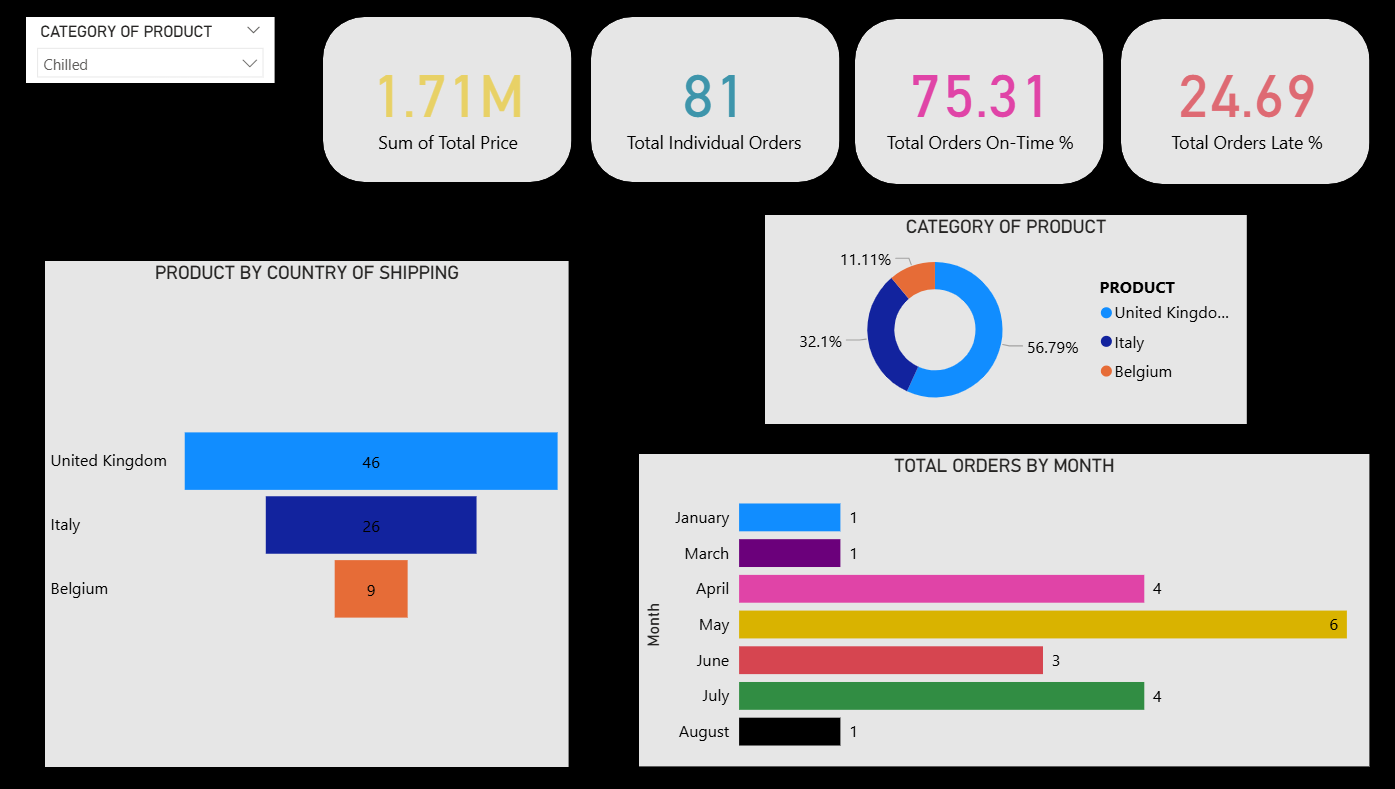

What the dashboard file says about the page in this screenshot:
{"tool":"powerbi","page":{"name":"CHILLED ITEMS","canvas":[1280,720],"ordinal":2},"visuals":[{"type":"shape","box":[1022,18,226,150],"z":0},{"type":"shape","box":[780,18,226,150],"z":1000},{"type":"shape","box":[540,16,226,150],"z":2000},{"type":"shape","box":[296,16,226,150],"z":3000},{"type":"slicer","fields":{"Values":["unique_category_of_product sheet.CATEGORY OF PRODUCT"]},"box":[16.7,33.3,247.8,60],"z":4000},{"type":"donutChart","title":"CATEGORY OF PRODUCT","fields":{"Y":["CountNonNull(deliveryScheduleCSV.PRODUCT)"],"Category":["deliveryScheduleCSV.COUNTRY OF SHIPPING"]},"box":[742.2,193.3,437.8,190],"z":5000},{"type":"barChart","title":"TOTAL ORDERS BY MONTH","fields":{"Y":["MeasureTable.Total Orders Late"],"Category":["deliveryScheduleCSV.DATE OF ORDER (D/M/Y).Variation.Date Hierarchy.Month"]},"box":[584,414,664,284],"z":6000},{"type":"card","fields":{"Values":["Sum(deliveryScheduleCSV.Total Price)"]},"box":[320,32,180,120],"z":7000},{"type":"funnel","title":"PRODUCT BY COUNTRY OF SHIPPING","fields":{"Y":["CountNonNull(deliveryScheduleCSV.PRODUCT)"],"Category":["unique_country_of_shipping sheet.COUNTRY OF SHIPPING"]},"box":[48.9,406.7,493.3,292.2],"z":8000},{"type":"card","fields":{"Values":["MeasureTable.Total Orders On-Time %"]},"box":[804,32,180,120],"z":9000},{"type":"card","fields":{"Values":["MeasureTable.Total Orders Late %"]},"box":[1046,32,180,120],"z":10000},{"type":"card","fields":{"Values":["MeasureTable.Total Individual Orders"]},"box":[562,32,180,120],"z":11000},{"type":"lineChart","title":"Total Price by Month","fields":{"Category":["deliveryScheduleCSV.ETA - WAREHOUSE DELIVERY.Variation.Date Hierarchy.Month"],"Y":["Sum(deliveryScheduleCSV.Total Price)"]},"box":[48.9,182.2,623.3,201.1],"z":11001}]}

Visuals, with their boxes in screenshot pixels (x1, y1, x2, y2), scaled from the page's 1280x720 canvas onto the 1395x789 screenshot:
shape: box=[1114, 20, 1360, 184]
shape: box=[850, 20, 1096, 184]
shape: box=[589, 18, 835, 182]
shape: box=[323, 18, 569, 182]
slicer - unique_category_of_product sheet.CATEGORY OF PRODUCT: box=[18, 36, 288, 102]
"CATEGORY OF PRODUCT" donutChart: box=[809, 212, 1286, 420]
"TOTAL ORDERS BY MONTH" barChart: box=[636, 454, 1360, 765]
card - Sum(deliveryScheduleCSV.Total Price): box=[349, 35, 545, 167]
"PRODUCT BY COUNTRY OF SHIPPING" funnel: box=[53, 446, 591, 766]
card - MeasureTable.Total Orders On-Time %: box=[876, 35, 1072, 167]
card - MeasureTable.Total Orders Late %: box=[1140, 35, 1336, 167]
card - MeasureTable.Total Individual Orders: box=[612, 35, 809, 167]
"Total Price by Month" lineChart: box=[53, 200, 733, 420]
